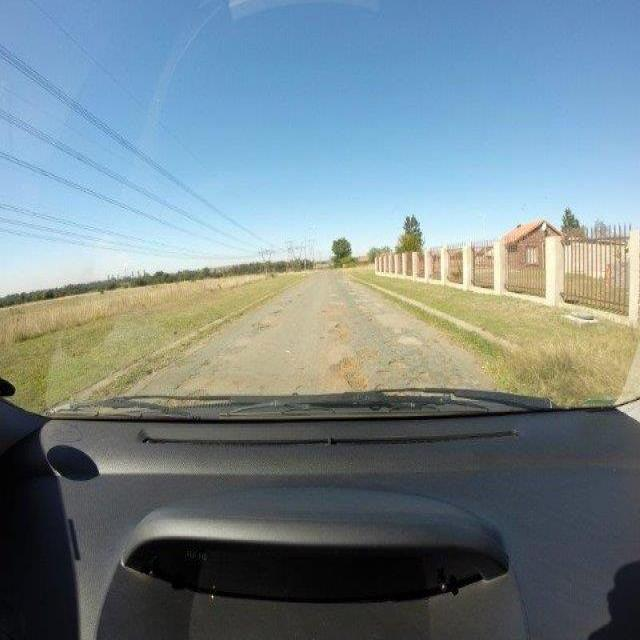lubang: (164, 360, 232, 394), (325, 346, 372, 388), (360, 338, 399, 387), (383, 326, 429, 354), (323, 311, 351, 345), (436, 352, 463, 386), (248, 316, 280, 332), (386, 354, 414, 372), (408, 365, 429, 387), (359, 306, 377, 323), (272, 304, 284, 318)
